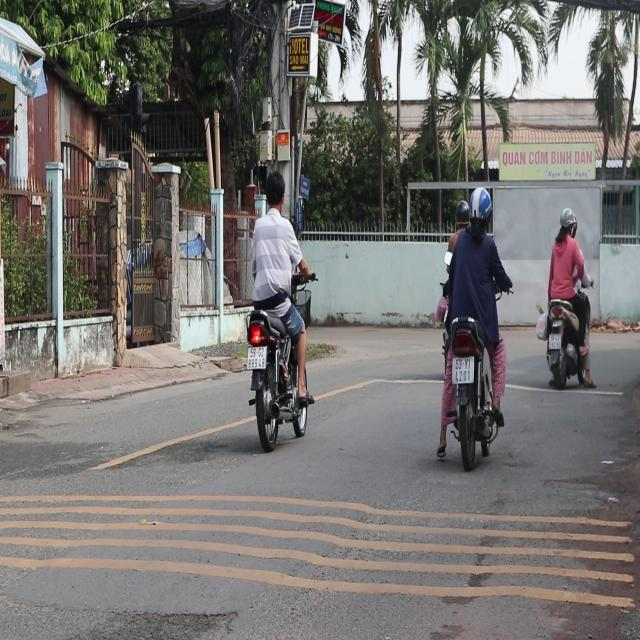helmet: (467, 186, 492, 232), (557, 204, 576, 238)
licenseplate: (433, 183, 510, 466), (241, 167, 314, 449), (540, 205, 593, 389)
motorcyclist: (262, 168, 286, 212)
nohelmet: (452, 356, 474, 382), (247, 347, 267, 369), (549, 334, 561, 349)
